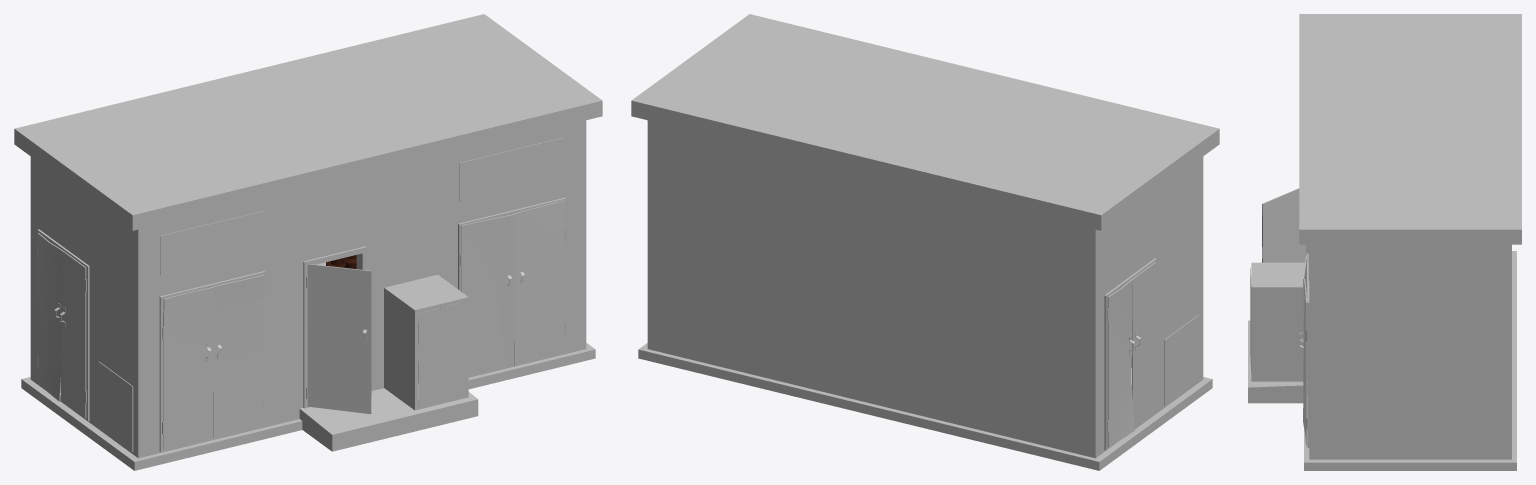
The model's file is transformer.fbx.
3 renders of one model, left to right at view 1: azimuth 30°, elevation 25°; view 2: azimuth 150°, elevation 25°; view 3: azimuth 270°, elevation 25°, orthographic. The views are drawn at different scales.
Parts seen in each view (by area): view 1: transform_box, door; view 2: transform_box; view 3: transform_box, door.
Boxes of the visible parts, left/top/right/bottom form: transform_box: left=14, top=14, right=602, bottom=470; door: left=307, top=263, right=371, bottom=414; transform_box: left=631, top=14, right=1219, bottom=470; transform_box: left=1248, top=14, right=1521, bottom=470; door: left=1262, top=188, right=1306, bottom=262.
Size of the model in its own units: 2470 by 1299 by 1325.
